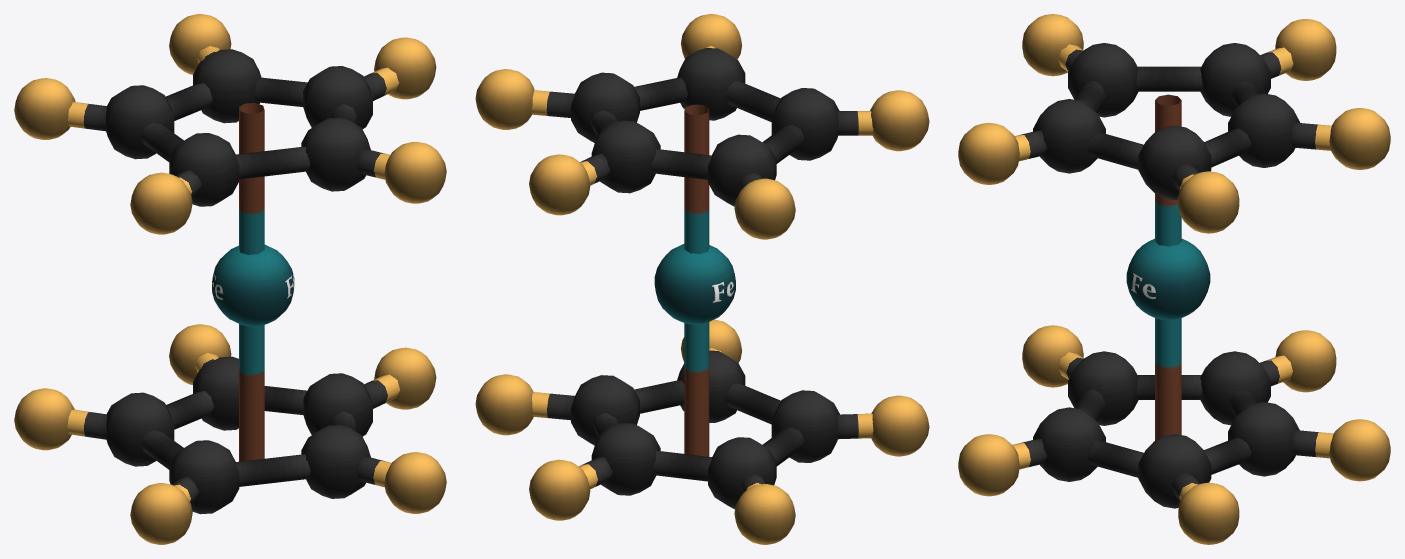
The model's file is Ferrocene(eclispsed).dae.
3 views of the same model, side by side, from view 1: azimuth 30°, elevation 25°; view 2: azimuth 150°, elevation 25°; view 3: azimuth 270°, elevation 25° (orthographic).
Parts seen in each view (by area): view 1: polySurface132; view 2: polySurface132; view 3: polySurface132.
Boxes of the visible parts, <box> form: polySurface132: <box>14,14,446,544</box>; polySurface132: <box>475,14,929,544</box>; polySurface132: <box>958,14,1390,544</box>.
Size of the model in its own units: 3.94 by 3.75 by 3.91.
1 material, 1 textured.
